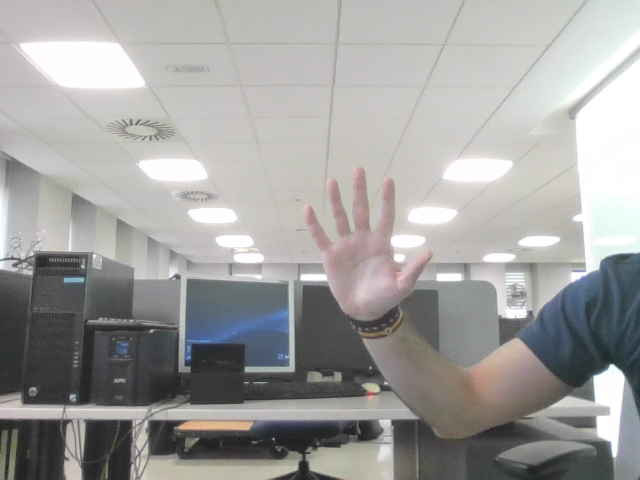Mano Abierta: (313, 178, 420, 297)
